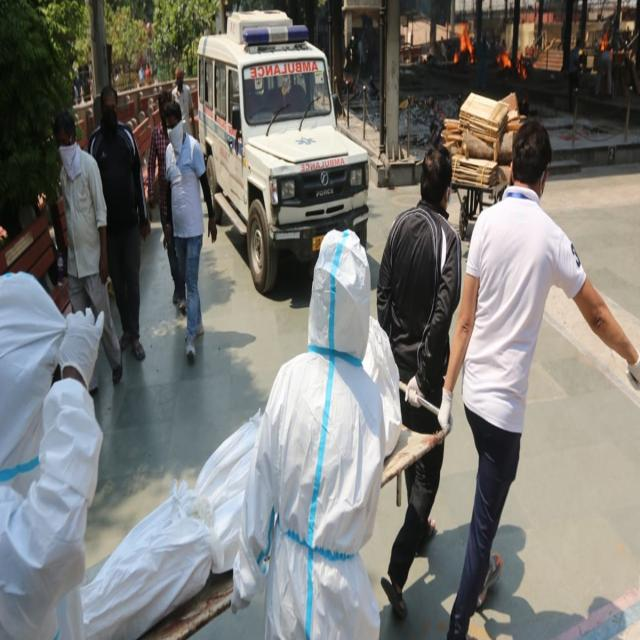emergency: (198, 11, 369, 292)
